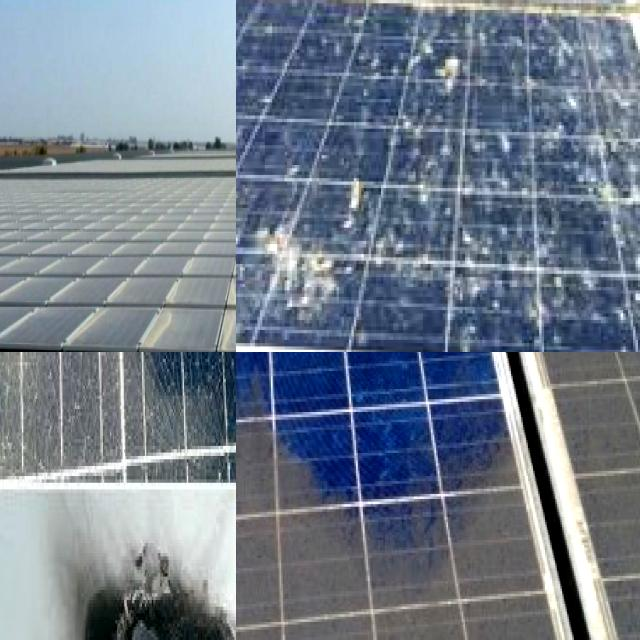bird: (258, 218, 342, 306), (414, 30, 471, 100), (451, 241, 501, 318), (596, 155, 640, 217), (328, 164, 378, 206)
dust: (344, 453, 446, 640), (236, 369, 325, 579), (466, 459, 555, 640), (236, 352, 323, 528), (251, 352, 447, 405), (581, 468, 640, 640), (543, 352, 640, 453), (236, 549, 331, 640), (286, 352, 475, 394), (472, 352, 640, 399), (27, 200, 123, 279), (145, 200, 236, 278), (236, 352, 328, 412), (236, 352, 342, 399), (94, 305, 183, 352), (0, 293, 69, 352), (0, 193, 50, 273), (514, 352, 640, 383), (468, 352, 640, 374), (0, 309, 40, 352)
shadow: (64, 539, 236, 640), (0, 352, 37, 531), (98, 352, 183, 425)
